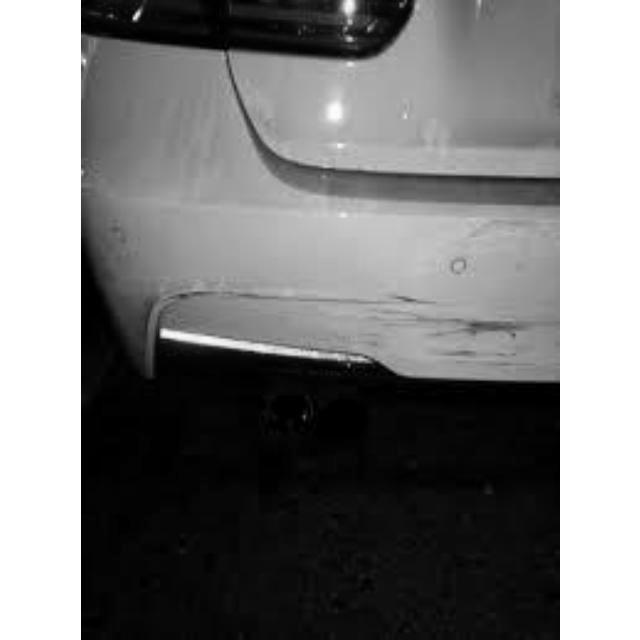rear-bumper-dent: (86, 37, 557, 459)
